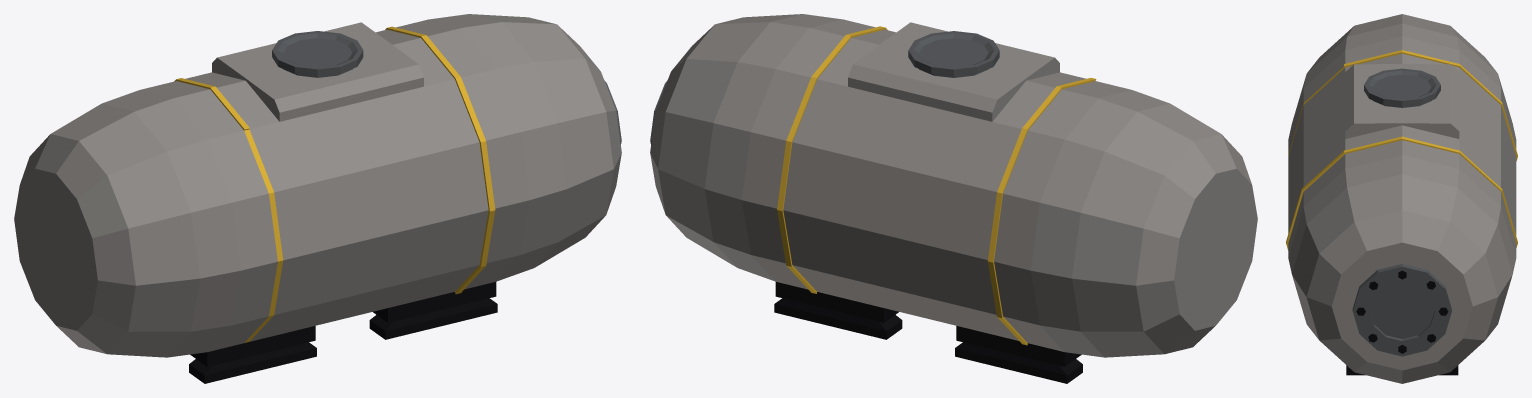
File: IndustrialTank.fbx
The picture shows the model from 3 angles, left to right: view 1: azimuth 30°, elevation 25°; view 2: azimuth 150°, elevation 25°; view 3: azimuth 270°, elevation 25°; orthographic projection. The views are drawn at different scales.
Visible parts, largest first — view 1: IndustrialTank; view 2: IndustrialTank; view 3: IndustrialTank.
Part boxes in pixels (x1,y1,x2,y2): IndustrialTank: [14, 14, 621, 383]; IndustrialTank: [650, 14, 1257, 383]; IndustrialTank: [1286, 14, 1517, 383].
Bounding box in the file's own units: 354 × 172 × 157.
